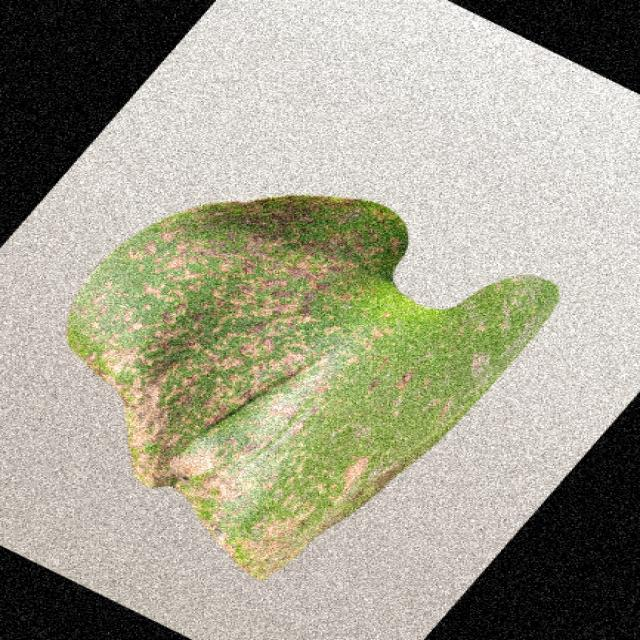daun berpenyakit bercak: (69, 197, 558, 579)
